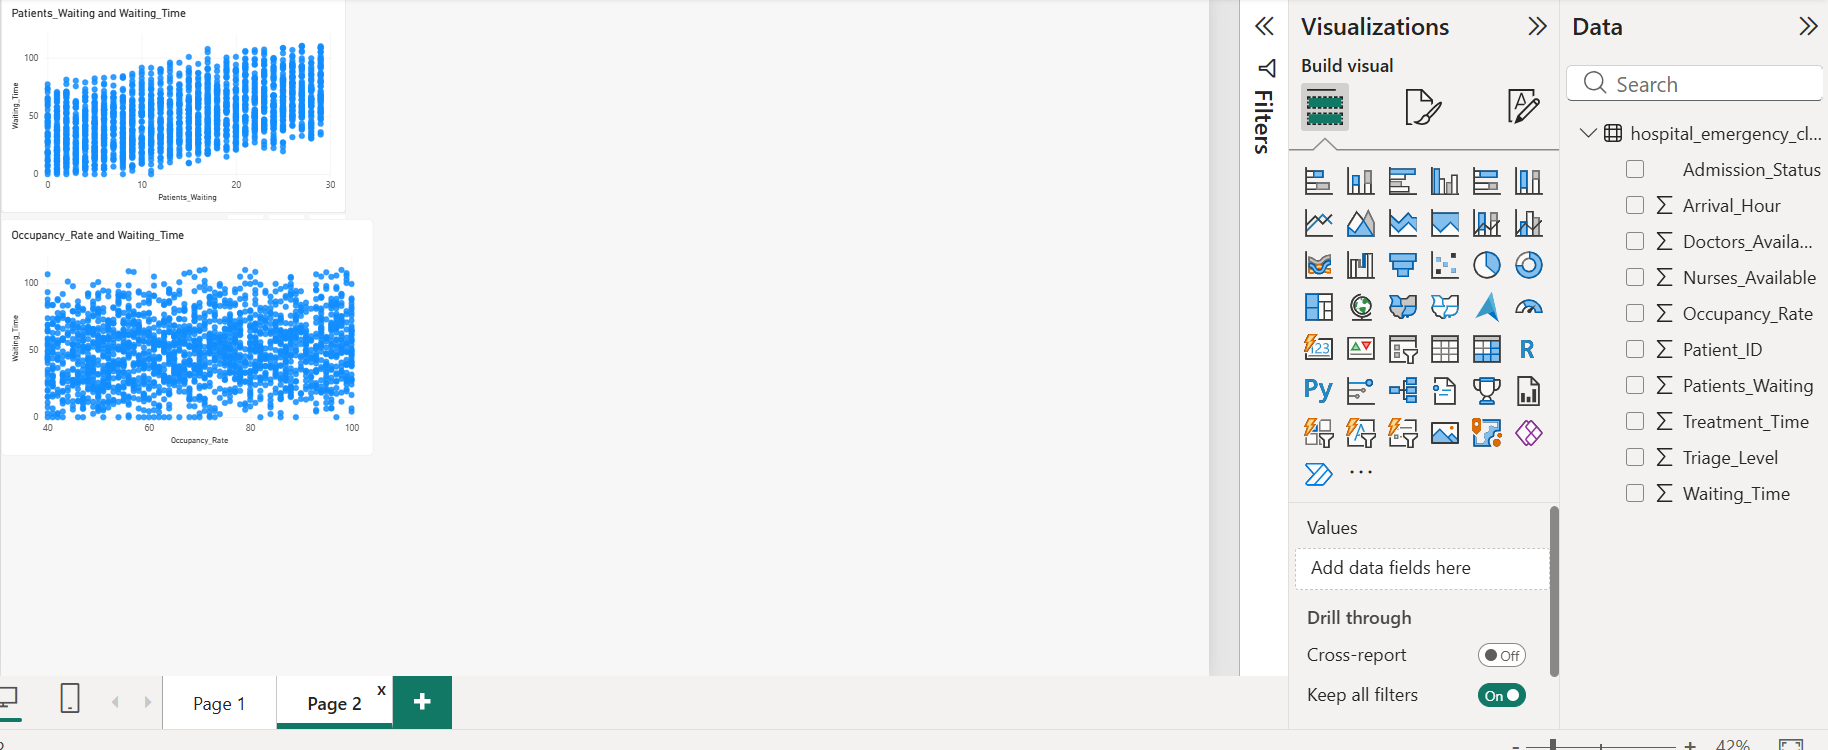

The page's visual inventory and layout, read from the dashboard file:
{"tool":"powerbi","page":{"name":"Page 2","canvas":[1920,1080],"ordinal":1},"visuals":[{"type":"scatterChart","fields":{"X":["hospital_emergency_cleaned.Patients_Waiting"],"Y":["hospital_emergency_cleaned.Waiting_Time"]},"box":[0,0,548.8,343.6],"z":0},{"type":"scatterChart","fields":{"X":["hospital_emergency_cleaned.Occupancy_Rate"],"Y":["hospital_emergency_cleaned.Waiting_Time"]},"box":[0,353.1,591.7,377],"z":1},{"type":"textbox","box":[0,740,592,340],"z":2}]}

Visuals, with their boxes on the page's 1920x1080 design canvas (x1, y1, x2, y2). These are canvas units, not pixel positions in the 1828x750 screenshot, which may show the page scaled, cropped or inside an application window:
scatterChart - hospital_emergency_cleaned.Patients_Waiting x hospital_emergency_cleaned.Waiting_Time: (0, 0, 549, 344)
scatterChart - hospital_emergency_cleaned.Occupancy_Rate x hospital_emergency_cleaned.Waiting_Time: (0, 353, 592, 730)
textbox: (0, 740, 592, 1080)
